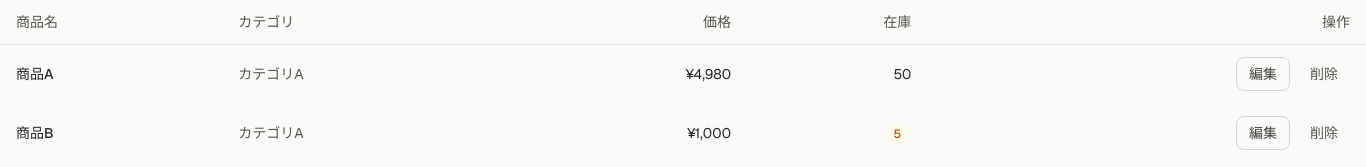
it: AdminProductTable › cancels delete on back button click
The image size is (1366, 167).
Click the button "削除" in the row of "商品A" at (1324, 74), box [1298, 58, 1350, 90]
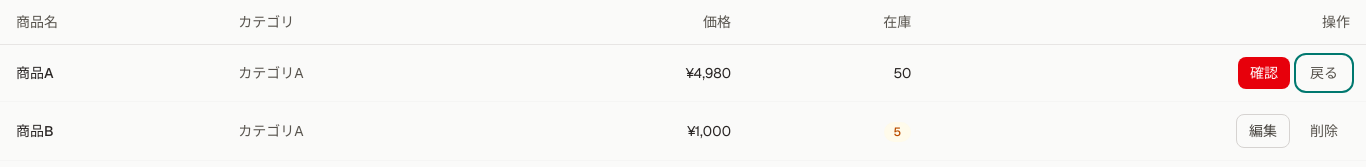
Click the button "戻る" at (1324, 73), box [1298, 57, 1350, 89]
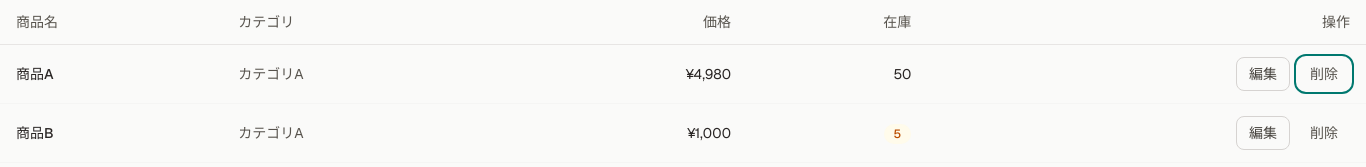
Now the button "確認" is gone
